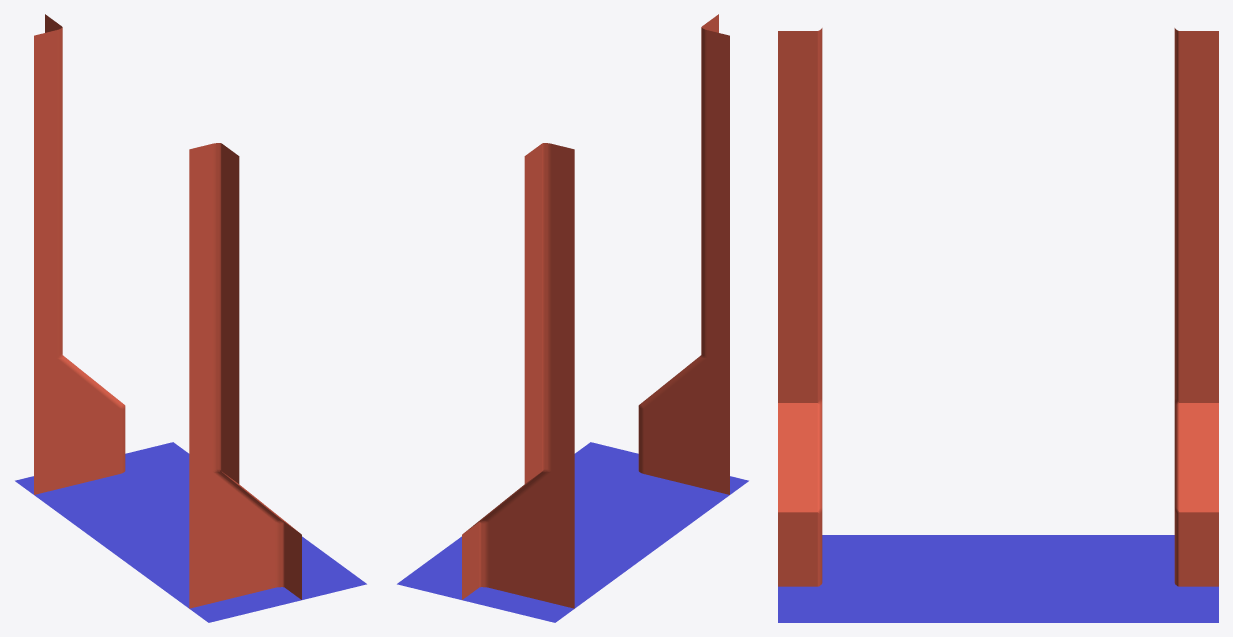
The model's file is L1V2_Small_Passage_P1.fbx.
The picture shows the model from 3 angles, left to right: view 1: azimuth 30°, elevation 25°; view 2: azimuth 150°, elevation 25°; view 3: azimuth 270°, elevation 25°; orthographic projection. The views are drawn at different scales.
Parts seen in each view (by area): view 1: Wall.021; view 2: Wall.021; view 3: Wall.021.
Part boxes in pixels (bbox=[...]): Wall.021: bbox=[15, 14, 366, 622]; Wall.021: bbox=[397, 14, 748, 622]; Wall.021: bbox=[778, 28, 1218, 622].
Bounding box in the file's own units: 253 × 700 × 537.
